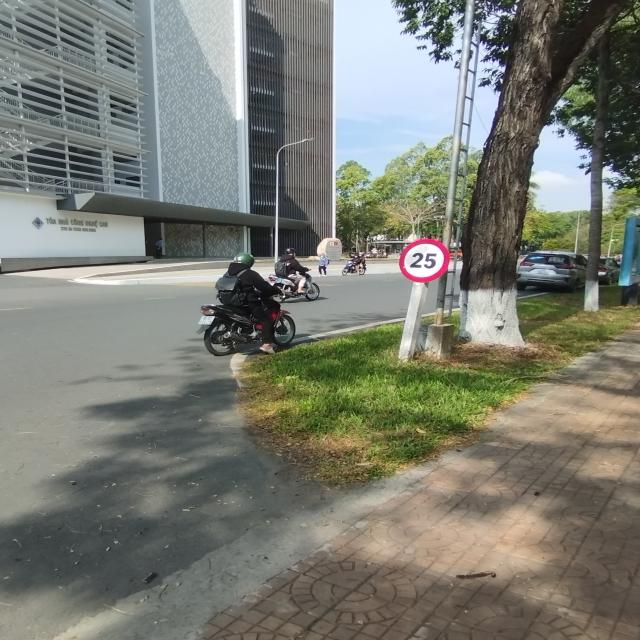Tre_Em: (399, 239, 450, 283)
